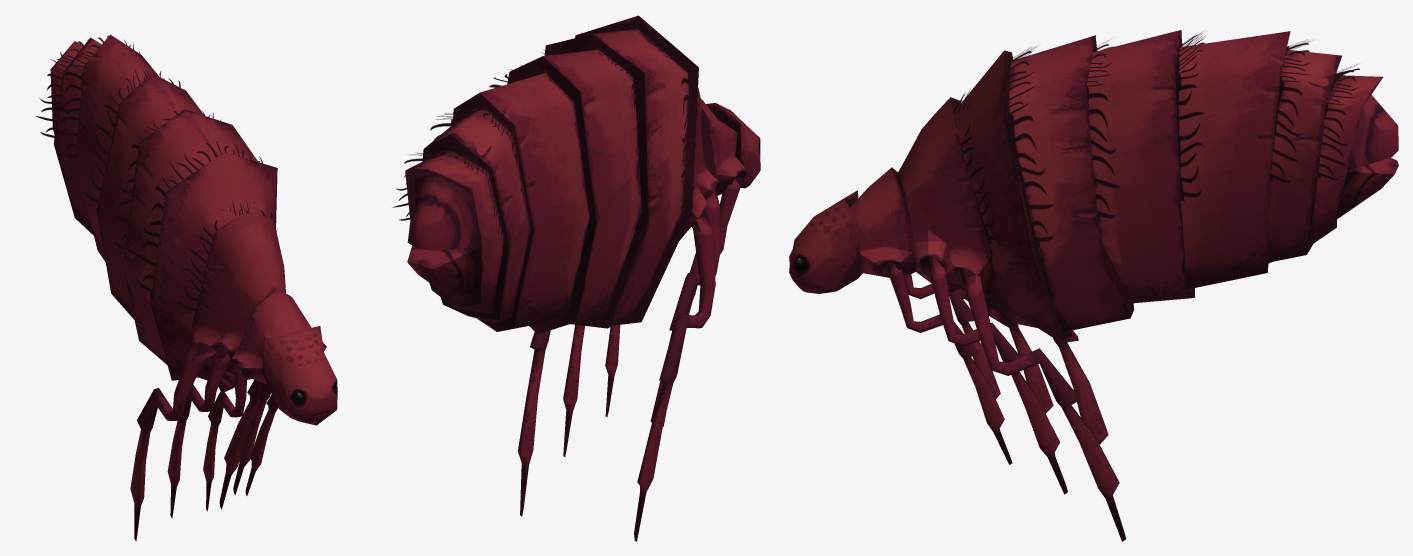
Rendered from flea.glb.
3 views of the same model, side by side, from view 1: azimuth 30°, elevation 25°; view 2: azimuth 150°, elevation 25°; view 3: azimuth 270°, elevation 25° (orthographic). The views are drawn at different scales.
Visible parts, largest first — view 1: Object_2; view 2: Object_2; view 3: Object_2.
Part boxes in pixels (<box>): Object_2: <box>36,34,337,541</box>; Object_2: <box>392,15,760,541</box>; Object_2: <box>789,30,1398,541</box>.
Size of the model in its own units: 6.61 by 18.99 by 20.58.
1 material, 1 textured.
